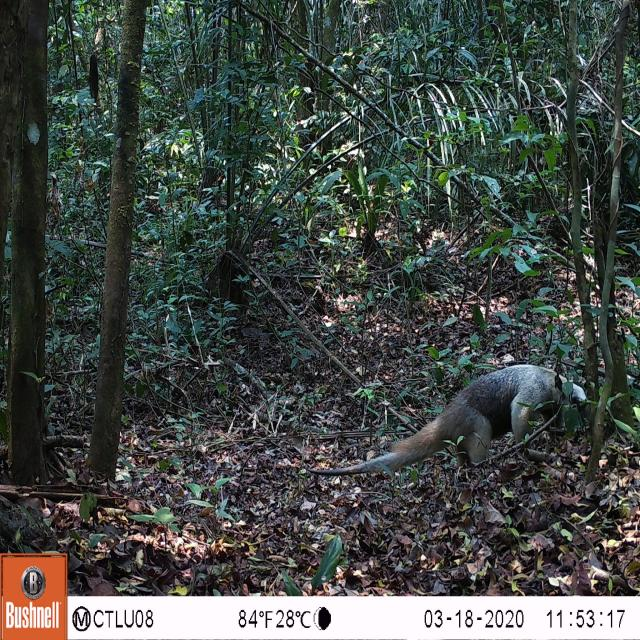Southern Tamandua: (299, 350, 601, 488)
